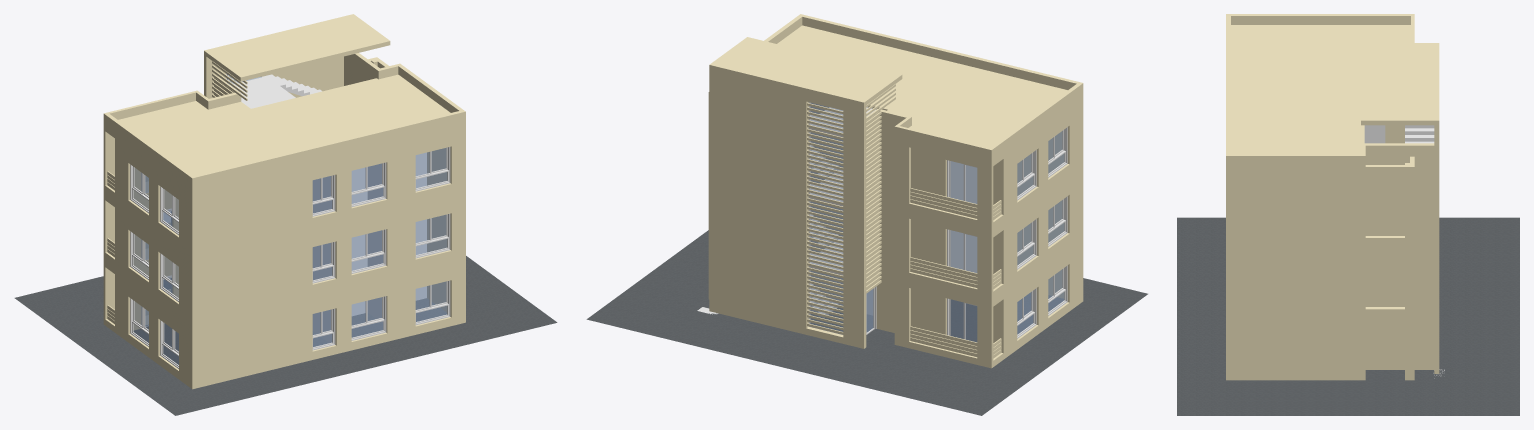
The picture shows the model from 3 angles, left to right: view 1: azimuth 30°, elevation 25°; view 2: azimuth 150°, elevation 25°; view 3: azimuth 270°, elevation 25°; orthographic projection. The views are drawn at different scales.
Parts seen in each view (by area): view 1: 17946, 17451, 16533, Root Node, 18574, Component#3 (×12), Component#5 (×3), 17947, 16878, 18555, Component#9, 18556 (+3 smaller); view 2: 17946, Root Node, 16533, 17451, 18574, 17947, Component#3 (×6), 17452, 19450, 17128, 16878, 18555 (+3 smaller); view 3: Root Node, 17946, 18574, 17451, 16533, 19342, 19437, 19439, 18556, 19089, 17947.
Part boxes in pixels (x1,y1,x2,y2): 17946: (115,14,465,255); 17451: (115,165,465,322); 16533: (115,231,465,389); Root Node: (14,256,557,415); 18574: (130,74,450,175); Component#3 (×12): (130,147,450,368); Component#5 (×3): (312,175,335,350); 17947: (103,90,208,206); 16878: (312,231,426,342); 18555: (312,164,426,275); Component#9: (230,76,295,108); 18556: (312,152,426,209); 17946: (708,14,1083,220); Root Node: (586,230,1147,415); 16533: (708,223,1083,359); 17451: (708,154,1083,289); 18574: (777,25,1067,144); 17947: (894,118,1003,237); Component#3 (×6): (1017,127,1067,338); 17452: (894,206,1003,306); 19450: (808,102,843,334); 17128: (894,276,1003,368); 16878: (810,230,977,315); 18555: (810,161,977,236); Root Node: (1177,217,1519,415); 17946: (1226,14,1439,237); 18574: (1231,25,1385,153); 17451: (1226,227,1439,309); 16533: (1226,298,1439,380); 19342: (1365,307,1404,322); 19437: (1365,236,1404,251); 19439: (1365,165,1404,180); 18556: (1364,125,1385,143); 19089: (1390,25,1410,42); 17947: (1390,14,1414,42).
Bounding box in the file's own units: 19.15 × 11.4 × 13.99.
Materials: 753 (1 with a texture image).
